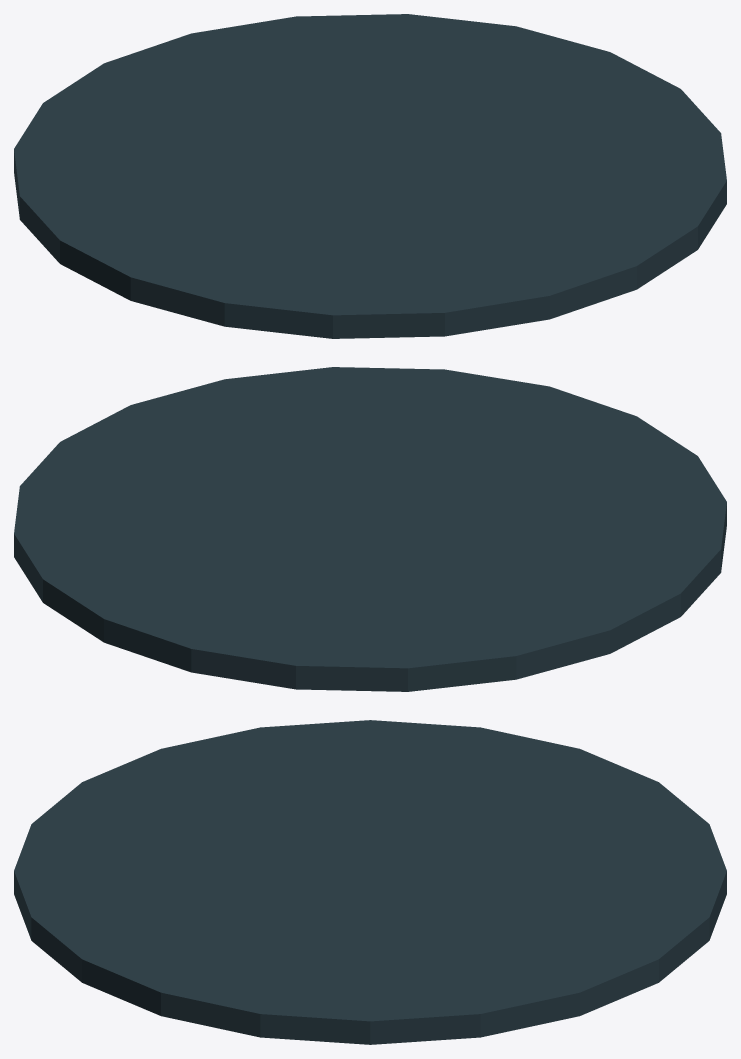
File: tempest-ozone-base-v2-collision.glb
3 renders of one model, top to bottom at view 1: azimuth 30°, elevation 25°; view 2: azimuth 150°, elevation 25°; view 3: azimuth 270°, elevation 25°, orthographic.
Parts seen in each view (by area): view 1: tempest_deck_collision; view 2: tempest_deck_collision; view 3: tempest_deck_collision.
Boxes of the visible parts, box(x1,y1,x2,y2) form: tempest_deck_collision: box(14, 14, 726, 338); tempest_deck_collision: box(14, 367, 726, 691); tempest_deck_collision: box(14, 720, 726, 1044).
Bounding box in the file's own units: 660 × 24 × 660.
